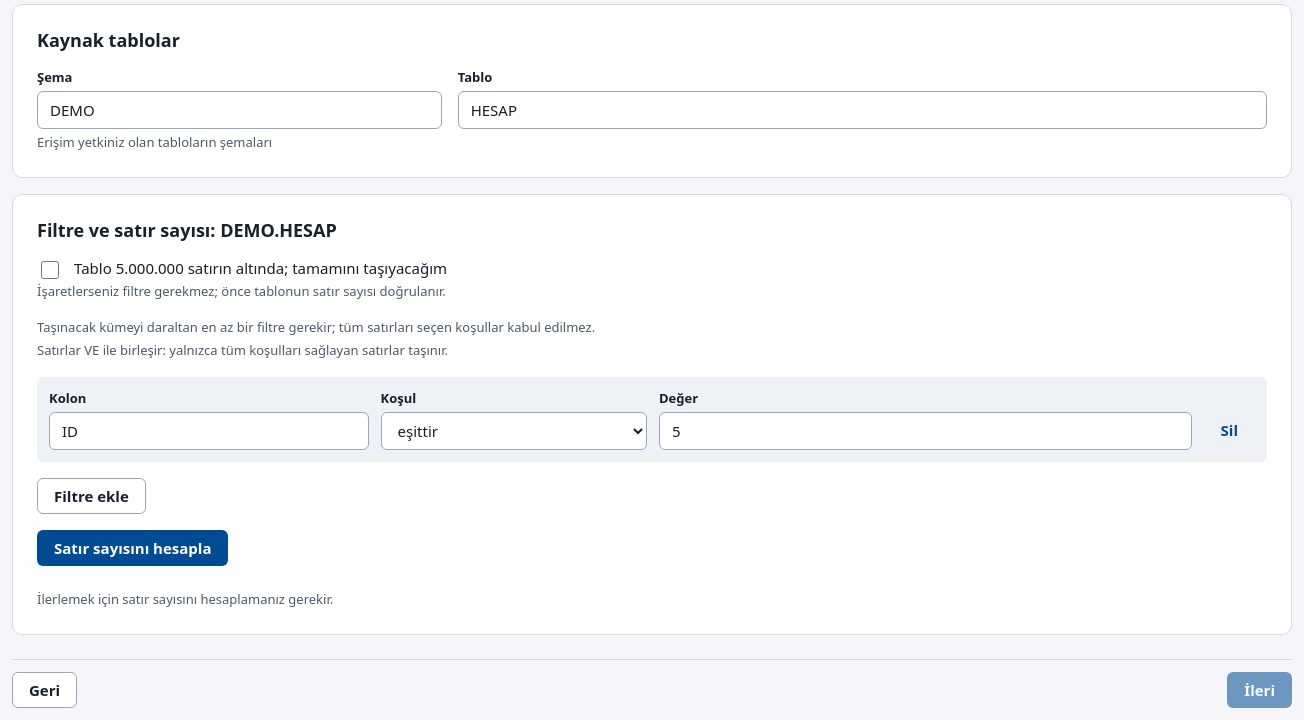
Test: Tables › over_limit mesajını gösterir ve İleri kapalı kalır
The width and height of the screenshot is (1304, 720).
(page scrolled)
Step 1. Click the button "Satır sayısını hesapla" → (133, 548), box [37,530,228,566]
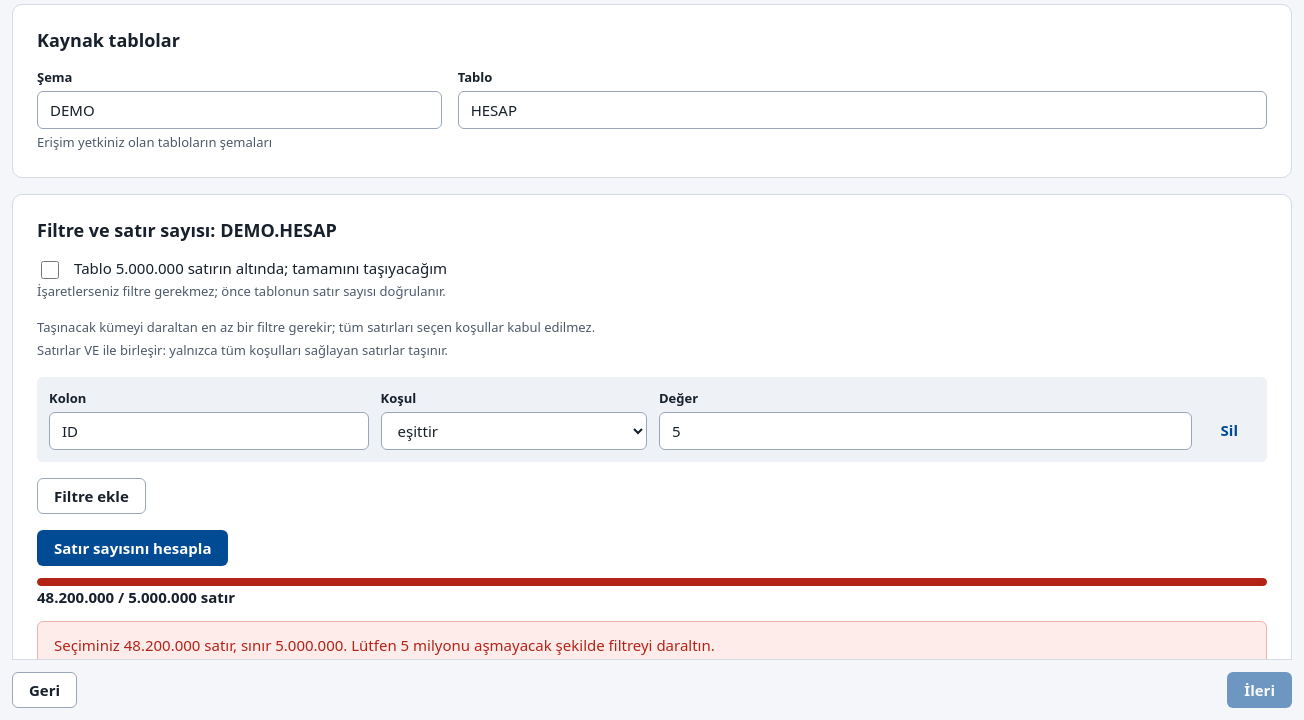
Expected: the button "İleri" is disabled, [1227,672,1292,708]
Expected: the text "Seçiminiz 48.200.000 satır, sınır 5.000.000. Lütfen 5 milyonu aşmayacak şekilde filtreyi daraltın." is shown, [54,634,715,654]
